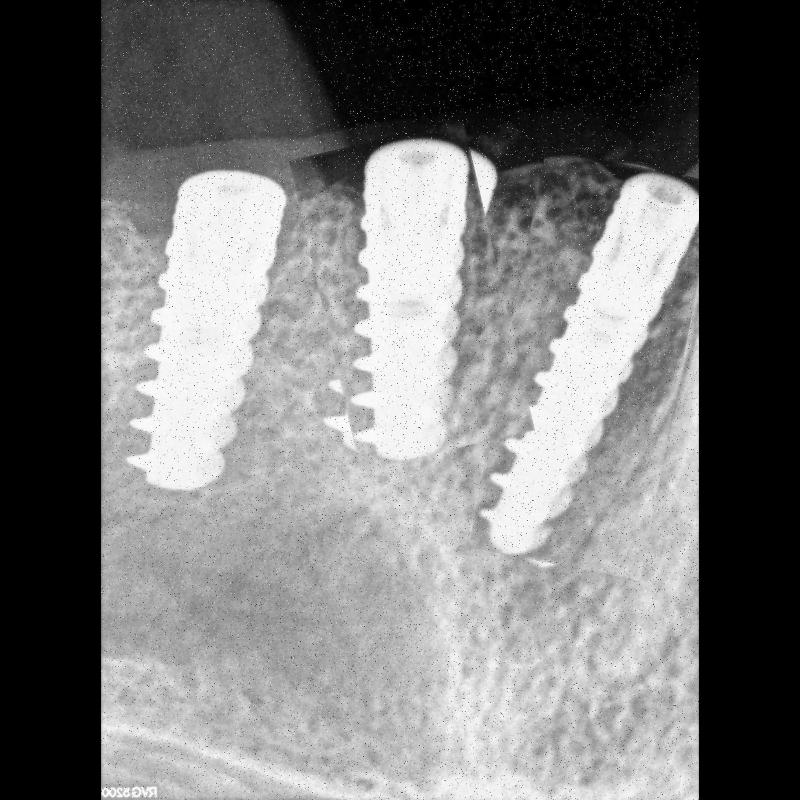ADIN: (487, 155, 699, 573), (306, 129, 518, 463), (120, 168, 292, 488)
